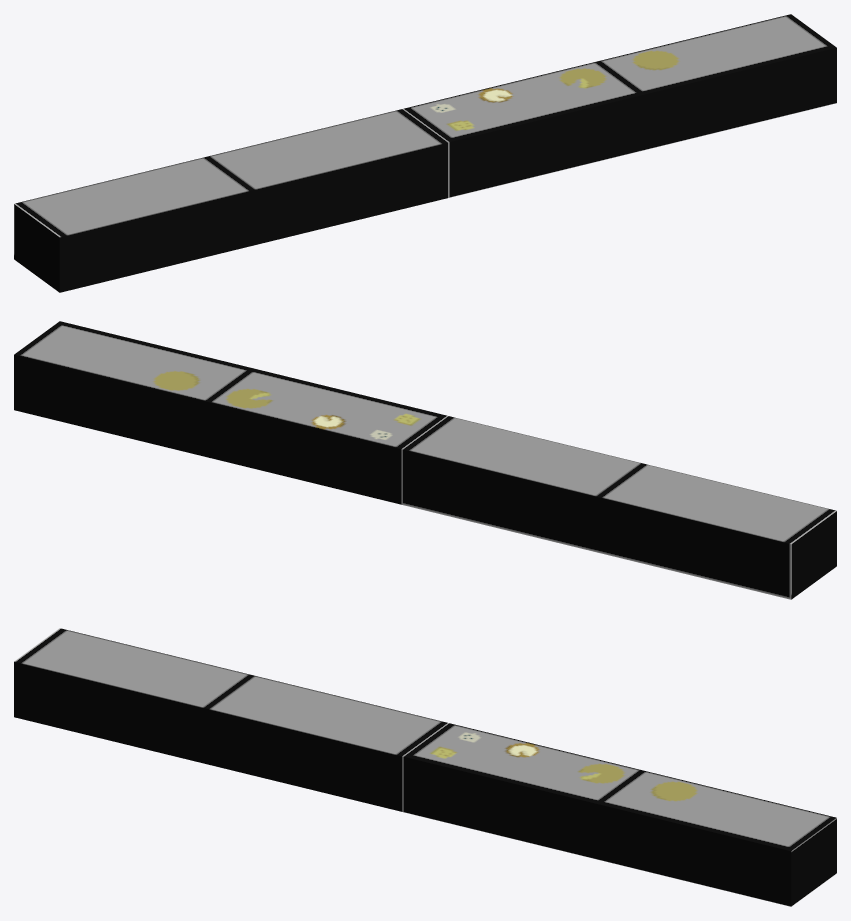
File: cheeseDisplay.fbx
3 renders of one model, top to bottom at view 1: azimuth 30°, elevation 25°; view 2: azimuth 150°, elevation 25°; view 3: azimuth 330°, elevation 25°, orthographic.
Parts seen in each view (by area): view 1: cheese; view 2: cheese; view 3: cheese.
Boxes of the visible parts, x1=… form: cheese: x1=14, y1=14, x2=836, y2=292; cheese: x1=14, y1=321, x2=836, y2=599; cheese: x1=14, y1=628, x2=836, y2=906.
Size of the model in its own units: 1619 by 111 by 165.
